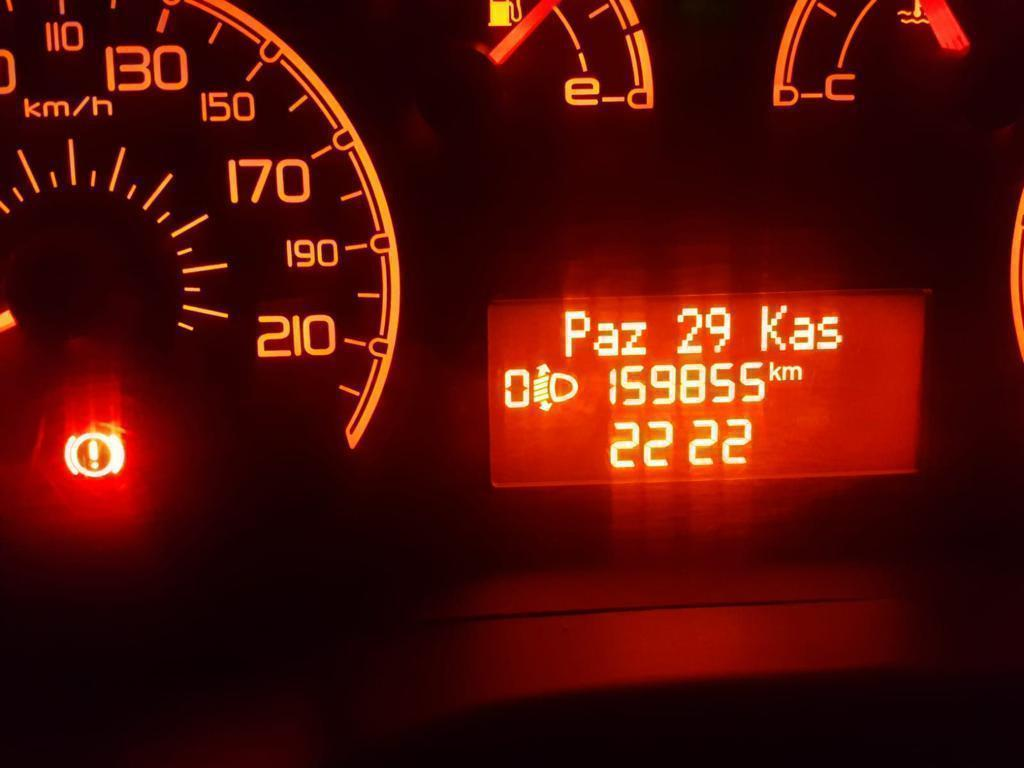0: (504, 367, 530, 410)
1: (608, 365, 616, 408)
2: (641, 419, 674, 468), (608, 420, 639, 468), (722, 416, 752, 464), (688, 417, 717, 465), (676, 305, 703, 353)
5: (619, 364, 645, 406), (739, 361, 764, 402), (711, 363, 735, 405)
8: (679, 363, 706, 405)
9: (706, 305, 732, 353), (649, 362, 675, 406)
X: (761, 300, 787, 354), (562, 309, 588, 359), (620, 318, 649, 357), (592, 319, 619, 357), (816, 314, 842, 353), (790, 315, 814, 351), (782, 364, 803, 383), (768, 359, 781, 382)
odometer: (477, 287, 941, 508)
